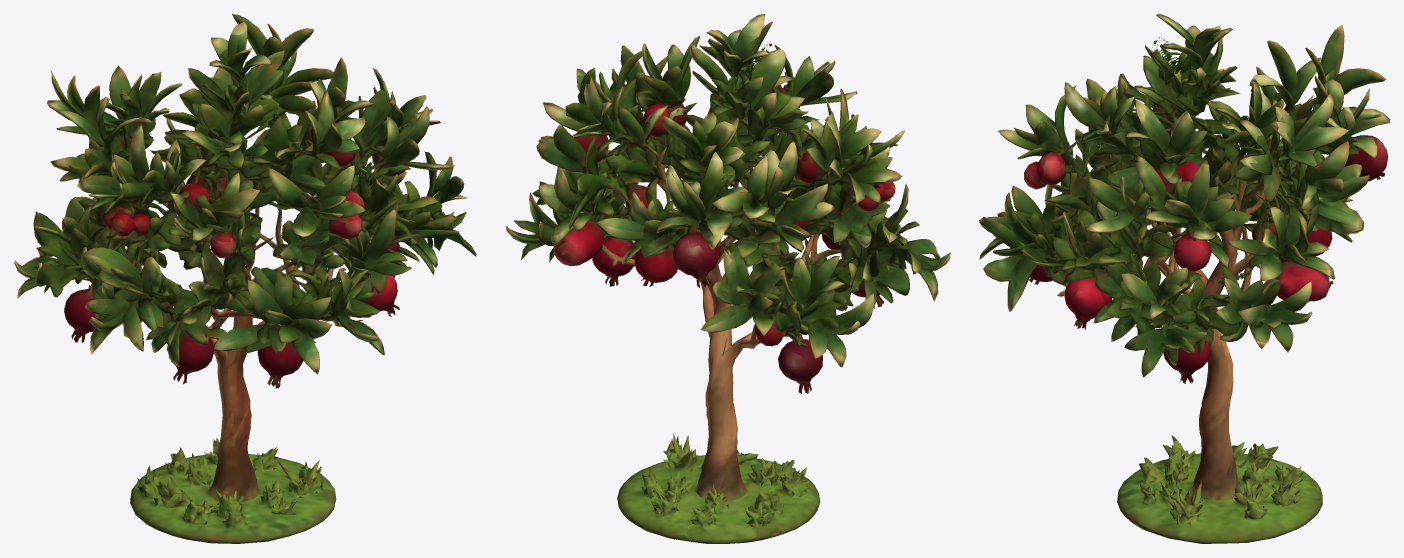
Rendered from Pomegranate_Tree_2.fbx.
The picture shows the model from 3 angles, left to right: view 1: azimuth 30°, elevation 25°; view 2: azimuth 150°, elevation 25°; view 3: azimuth 270°, elevation 25°; orthographic projection. The views are drawn at different scales.
Parts seen in each view (by area): view 1: Pomegranate_Tree_2_LOD0; view 2: Pomegranate_Tree_2_LOD0; view 3: Pomegranate_Tree_2_LOD0.
Part boxes in pixels (left/top/right/bottom): Pomegranate_Tree_2_LOD0: left=14, top=14, right=476, bottom=543; Pomegranate_Tree_2_LOD0: left=505, top=14, right=950, bottom=543; Pomegranate_Tree_2_LOD0: left=979, top=14, right=1389, bottom=543.
Size of what is drawn, in the model's own units: 1.65 by 1.9 by 1.47.
1 material, 1 textured.
